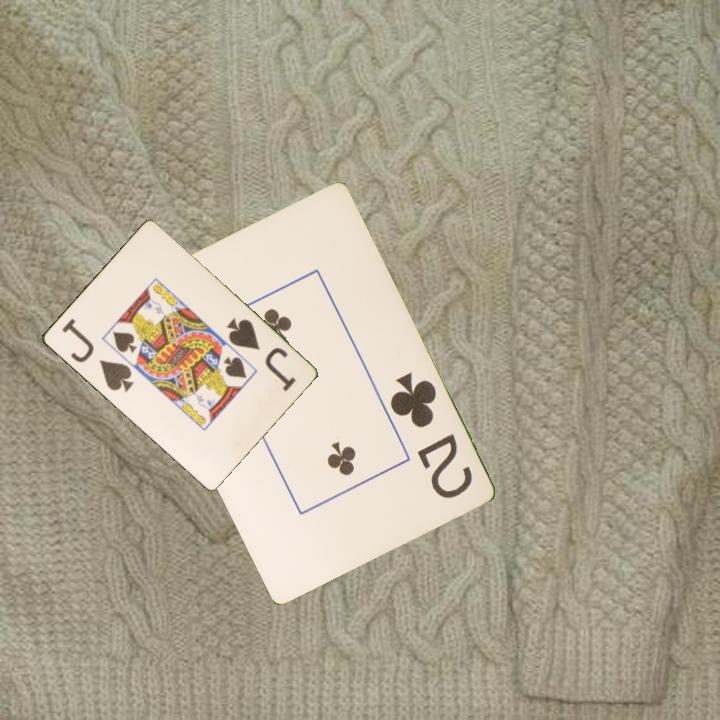2c: (386, 368, 475, 502)
Js: (58, 314, 137, 395), (222, 314, 299, 395)
